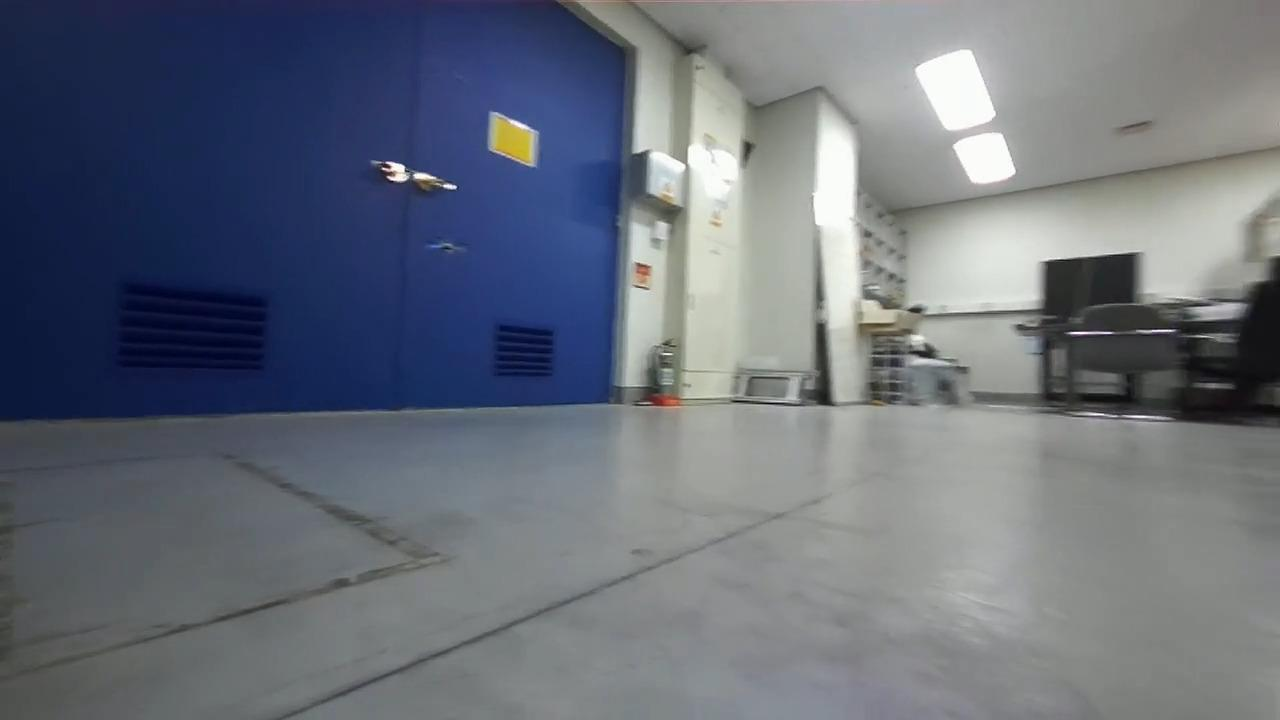crazyflie: (420, 236, 472, 259)
